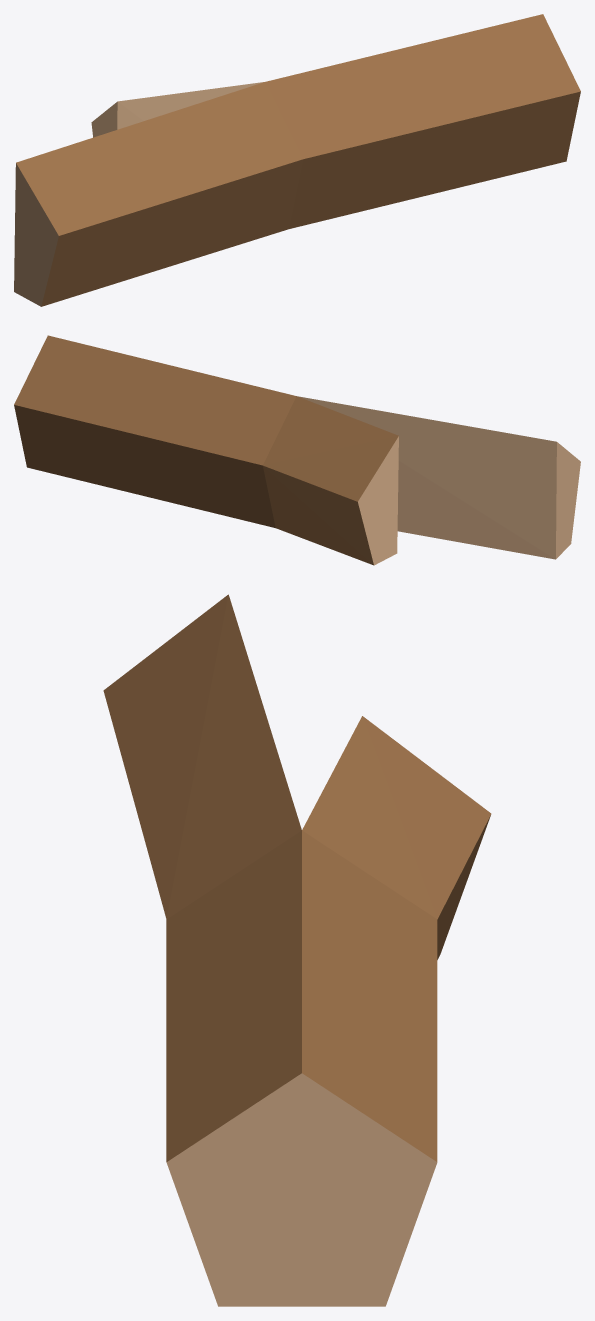
The model's file is Pine_Firewood_03_LOD.fbx.
The picture shows the model from 3 angles, top to bottom: view 1: azimuth 30°, elevation 25°; view 2: azimuth 150°, elevation 25°; view 3: azimuth 270°, elevation 25°; orthographic projection. The views are drawn at different scales.
Parts seen in each view (by area): view 1: Pine_Firewood_03_LOD0; view 2: Pine_Firewood_03_LOD0; view 3: Pine_Firewood_03_LOD0.
Boxes of the visible parts, x1,y1,x2,y2 form: Pine_Firewood_03_LOD0: [14, 14, 580, 306]; Pine_Firewood_03_LOD0: [14, 335, 580, 565]; Pine_Firewood_03_LOD0: [103, 594, 491, 1306].
Size of what is drawn, in the model's own units: 55.27 by 12.56 by 18.91.
